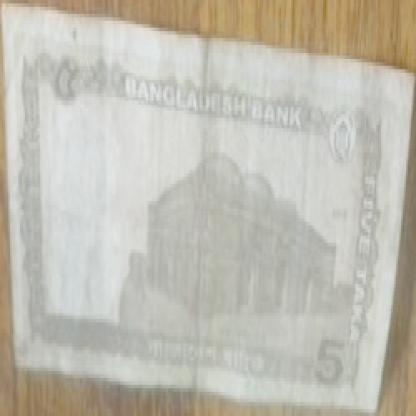Five Taka: (45, 42, 91, 124), (311, 322, 348, 392)
